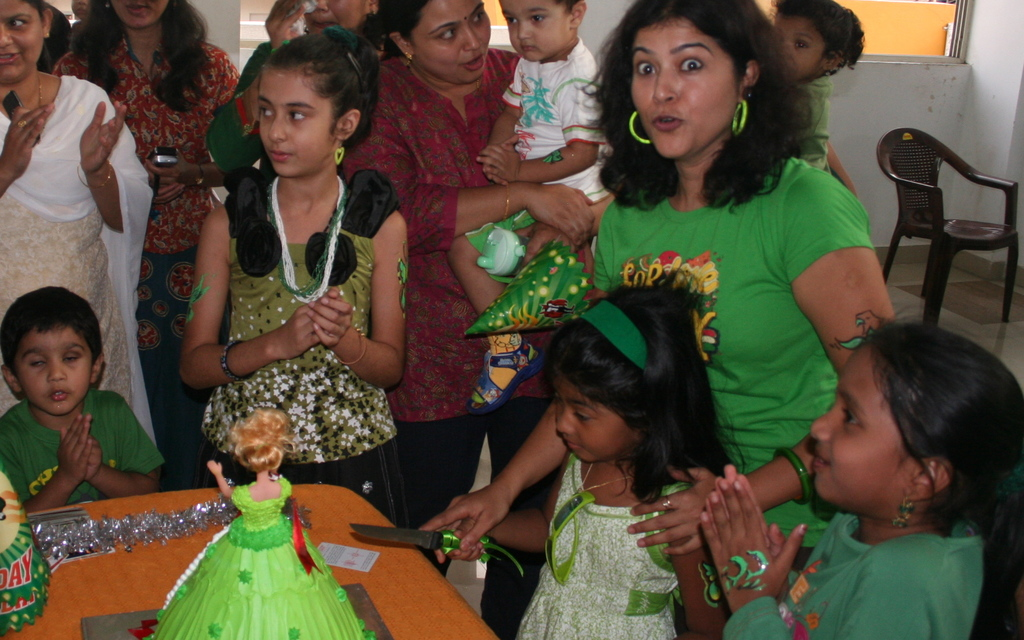cake: (147, 413, 378, 639)
